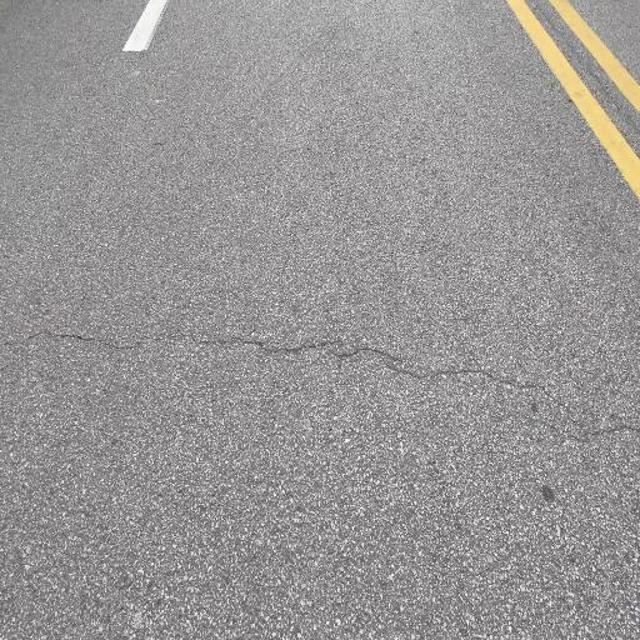Melintang: (0, 315, 640, 448)
